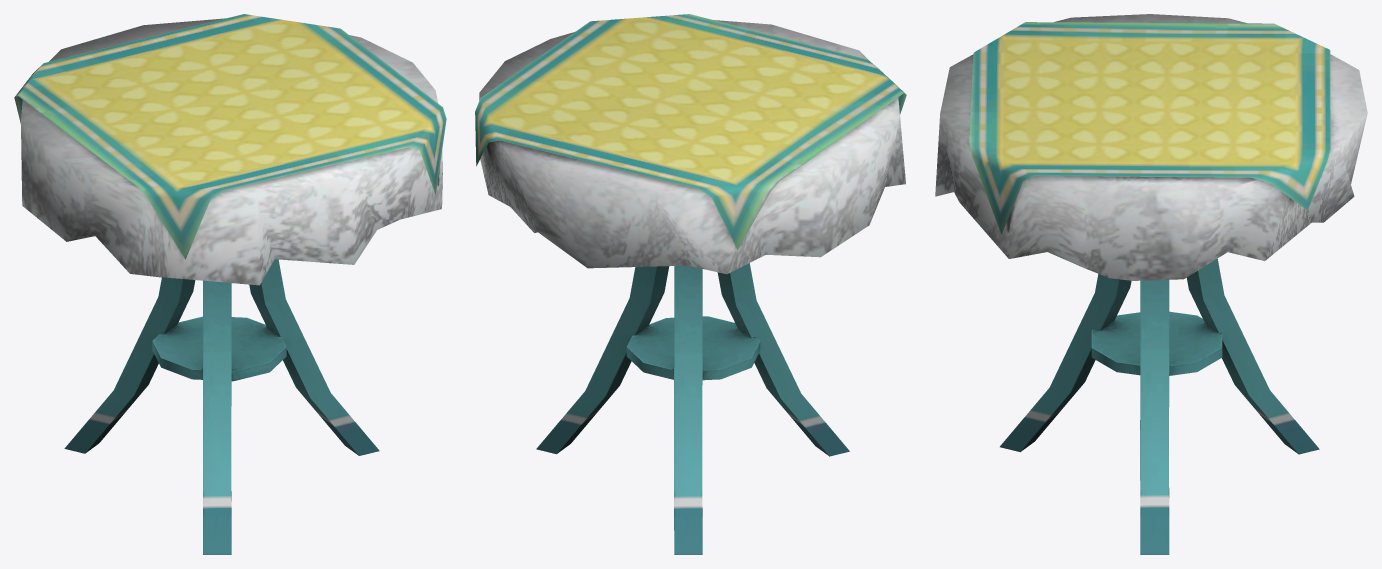
File: furni_0200507_02.FBX
3 renders of one model, left to right at view 1: azimuth 30°, elevation 25°; view 2: azimuth 150°, elevation 25°; view 3: azimuth 270°, elevation 25°, orthographic. The views are drawn at different scales.
Parts seen in each view (by area): view 1: furni_0200507_02; view 2: furni_0200507_02; view 3: furni_0200507_02.
Boxes of the visible parts, left/top/right/bottom form: furni_0200507_02: left=14, top=14, right=446, bottom=554; furni_0200507_02: left=475, top=14, right=906, bottom=554; furni_0200507_02: left=935, top=14, right=1367, bottom=554.
Size of the model in its own units: 81.62 by 81.27 by 82.8.
1 material, 1 textured.
